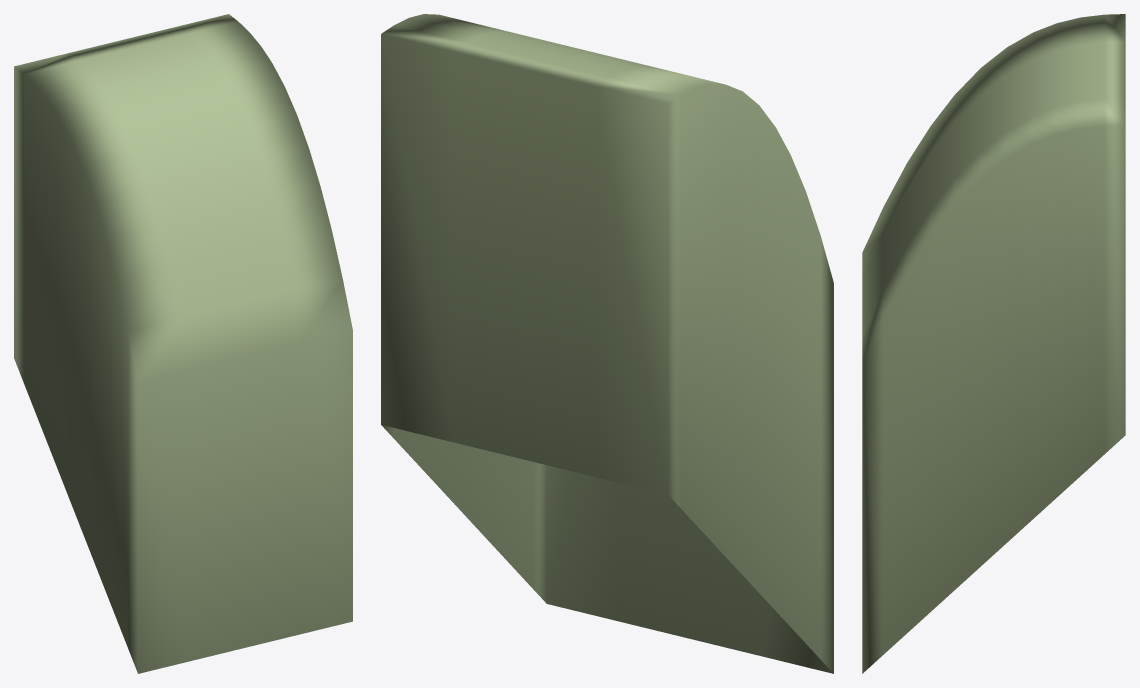
Rendered from ground-ramp-30.glb.
3 renders of one model, left to right at view 1: azimuth 30°, elevation 25°; view 2: azimuth 150°, elevation 25°; view 3: azimuth 270°, elevation 25°, orthographic. The views are drawn at different scales.
Visible parts, largest first — view 1: ground-ramp-30; view 2: ground-ramp-30; view 3: ground-ramp-30.
Boxes of the visible parts, x1,y1,x2,y2 form: ground-ramp-30: (14,14,352,673); ground-ramp-30: (381,14,833,673); ground-ramp-30: (862,14,1125,673).
Size of the model in its own units: 1 by 2.3 by 1.
